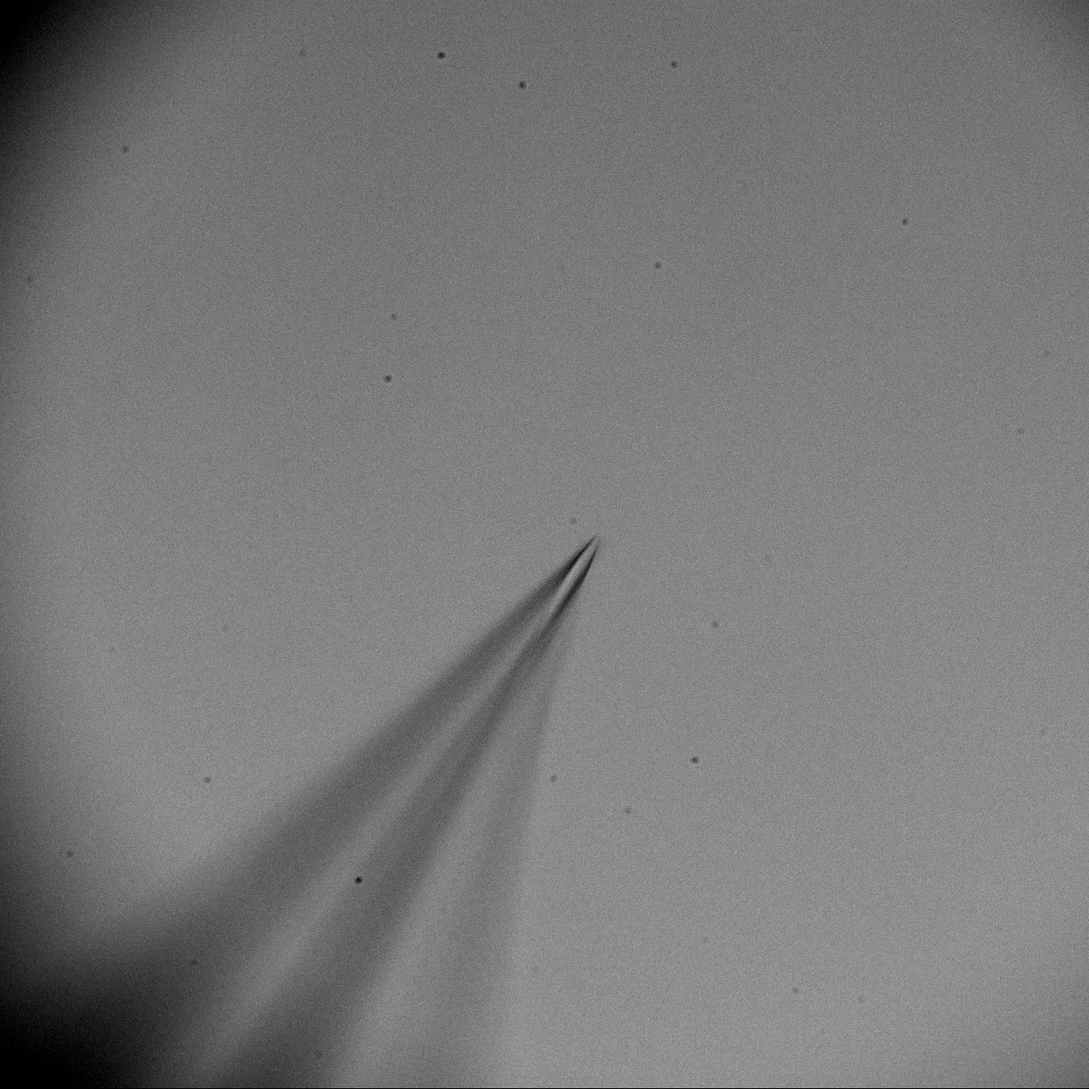tip: (498, 526, 621, 632)
